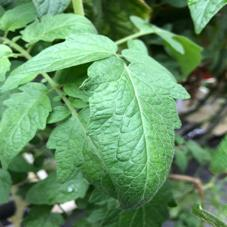Healthy: (80, 48, 190, 210), (0, 32, 119, 92), (0, 82, 52, 174)
